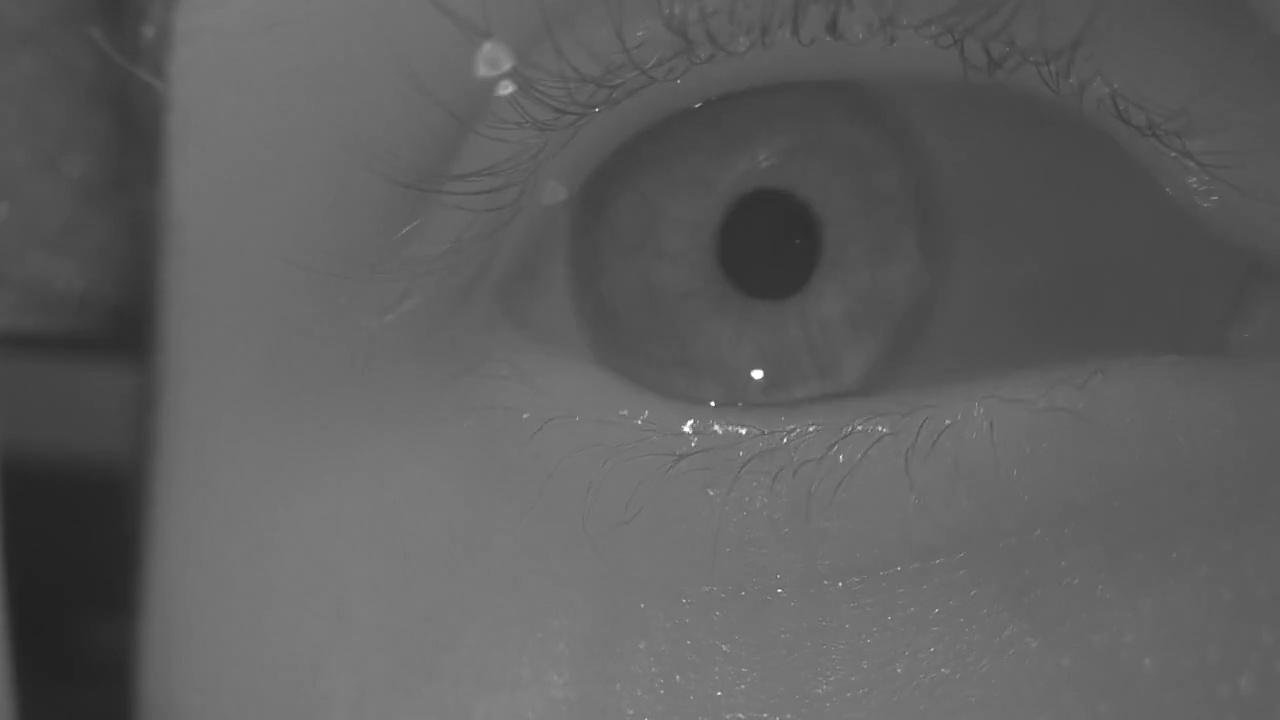pupil: (716, 190, 820, 298)
